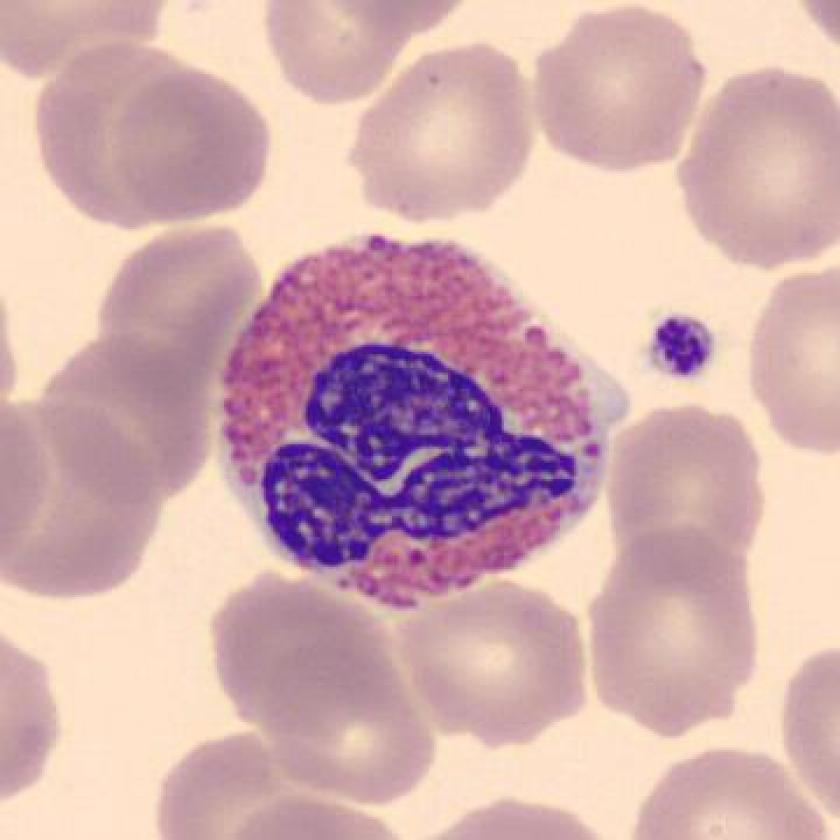eosinophil: (199, 221, 650, 628)
